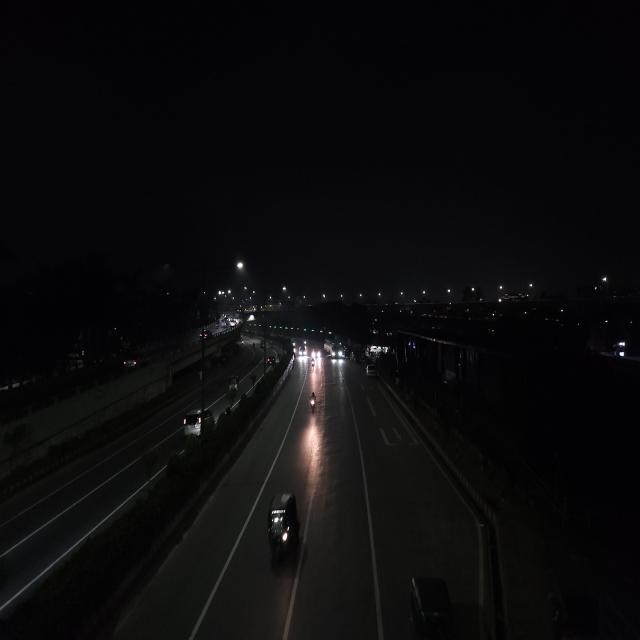bus: (330, 336, 344, 361)
car: (181, 404, 215, 438), (122, 355, 140, 372), (364, 360, 378, 380), (264, 353, 276, 368), (198, 329, 210, 342)
cng: (401, 570, 460, 640), (262, 488, 304, 568), (226, 374, 239, 396)
motorcycle: (308, 389, 318, 416), (308, 358, 316, 370)
